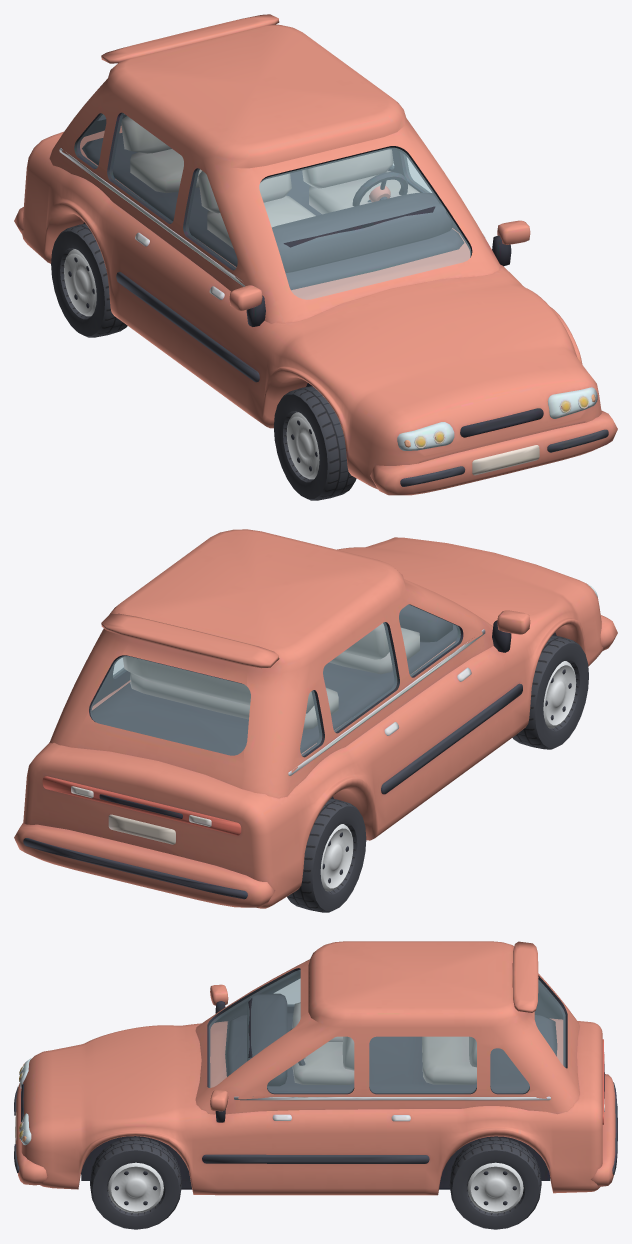
The model's file is 1990s-hatchback.glb.
3 views of the same model, one above another, from view 1: azimuth 30°, elevation 25°; view 2: azimuth 150°, elevation 25°; view 3: azimuth 270°, elevation 25° (orthographic). The views are drawn at different scales.
Parts seen in each view (by area): view 1: 1990s-hatchback_body, 1990s-hatchback_windows, 1990s-hatchback_wheel_fr, 1990s-hatchback_wheel_rr; view 2: 1990s-hatchback_body, 1990s-hatchback_windows, 1990s-hatchback_wheel_rr, 1990s-hatchback_wheel_fr; view 3: 1990s-hatchback_body, 1990s-hatchback_windows, 1990s-hatchback_wheel_rl, 1990s-hatchback_wheel_fl.
Boxes of the visible parts, x1,y1,x2,y2 form: 1990s-hatchback_body: (14, 14, 617, 495); 1990s-hatchback_windows: (77, 113, 470, 299); 1990s-hatchback_wheel_fr: (274, 386, 356, 500); 1990s-hatchback_wheel_rr: (51, 223, 127, 337); 1990s-hatchback_body: (14, 529, 617, 908); 1990s-hatchback_windows: (90, 604, 460, 755); 1990s-hatchback_wheel_rr: (287, 798, 366, 912); 1990s-hatchback_wheel_fr: (512, 635, 588, 749); 1990s-hatchback_body: (14, 941, 617, 1195); 1990s-hatchback_windows: (209, 970, 565, 1092); 1990s-hatchback_wheel_rl: (449, 1137, 541, 1229); 1990s-hatchback_wheel_fl: (90, 1137, 181, 1229).
Size of the model in its own units: 1.86 by 1.53 by 4.06.
Materials: 18 (5 with a texture image).
